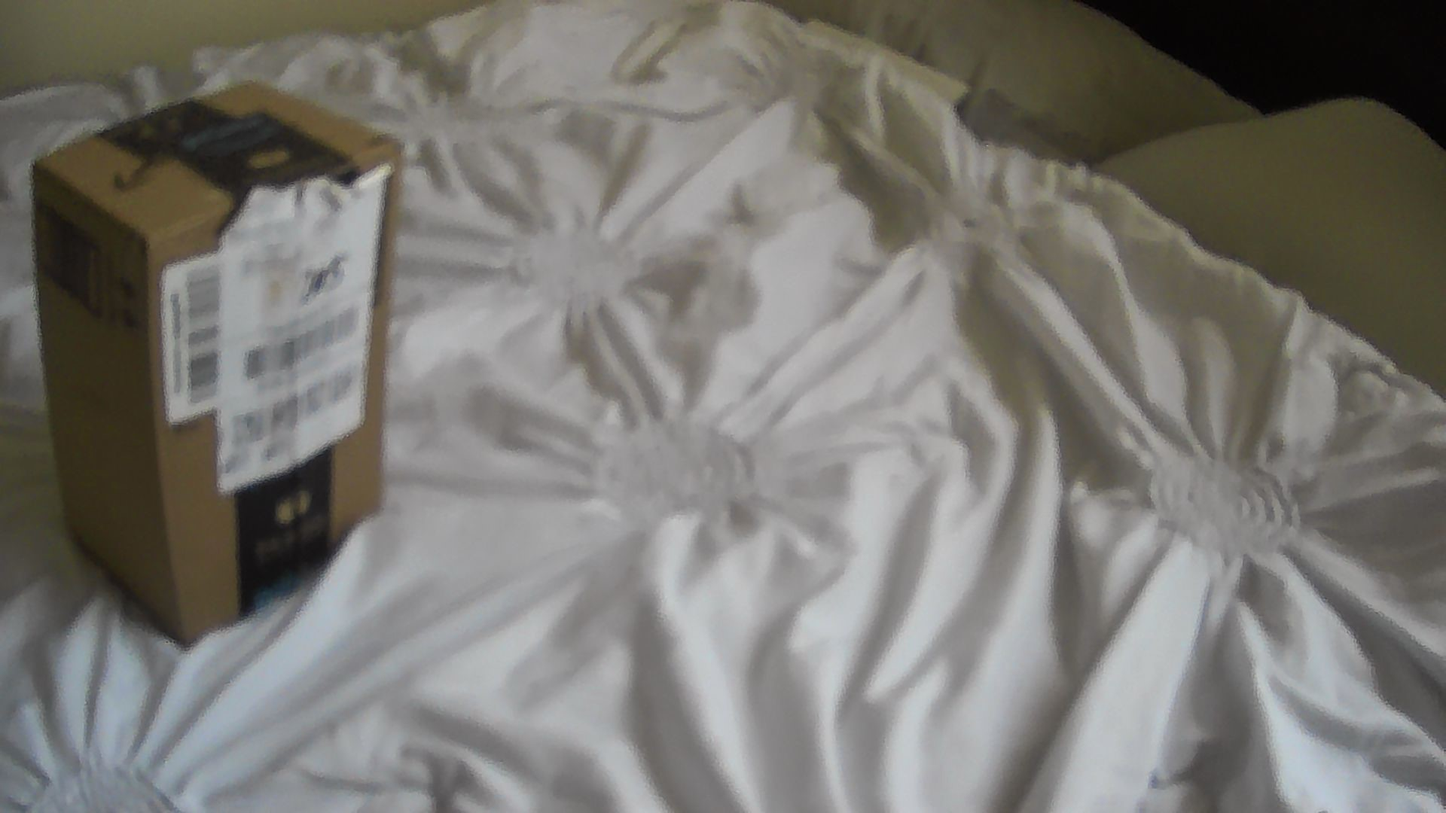package: (25, 67, 412, 657)
